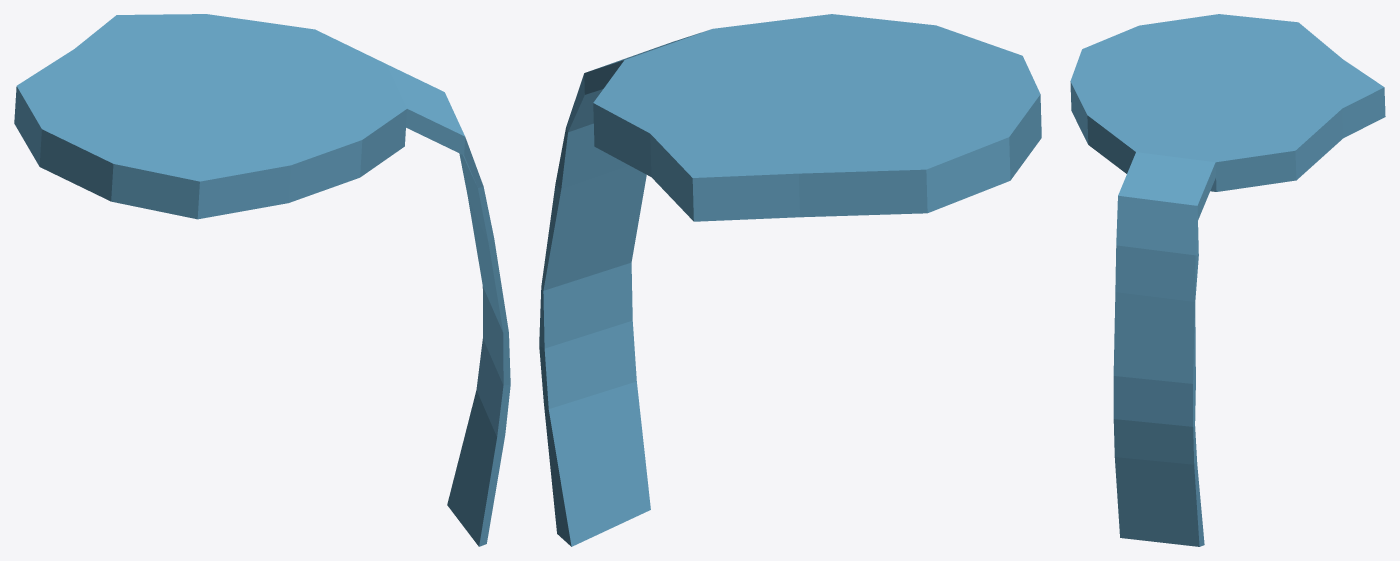
The model's file is Water-Island-L3.fbx.
3 views of the same model, side by side, from view 1: azimuth 30°, elevation 25°; view 2: azimuth 150°, elevation 25°; view 3: azimuth 270°, elevation 25° (orthographic). The views are drawn at different scales.
Visible parts, largest first — view 1: lake; view 2: lake; view 3: lake.
Boxes of the visible parts, x1,y1,x2,y2 form: lake: (14, 14, 510, 546); lake: (539, 14, 1041, 546); lake: (1070, 14, 1385, 546).
Bounding box in the file's own units: 3484 × 3588 × 2721.
